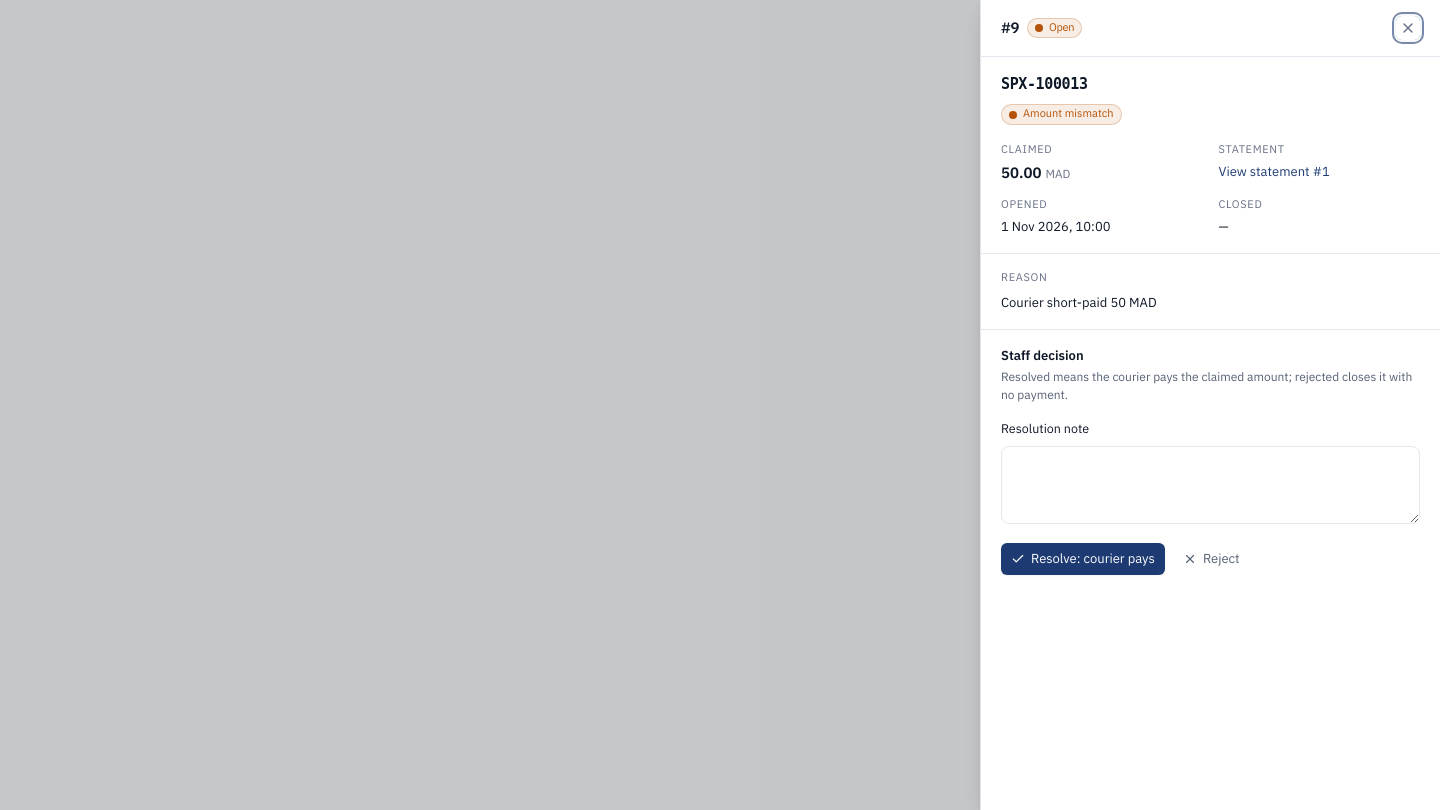
Test case: DisputeDrawer › lets staff resolve with a note
Type "Paid" into the text box labelled "Resolution note" at x=1210, y=485, box [1001,446,1420,524]
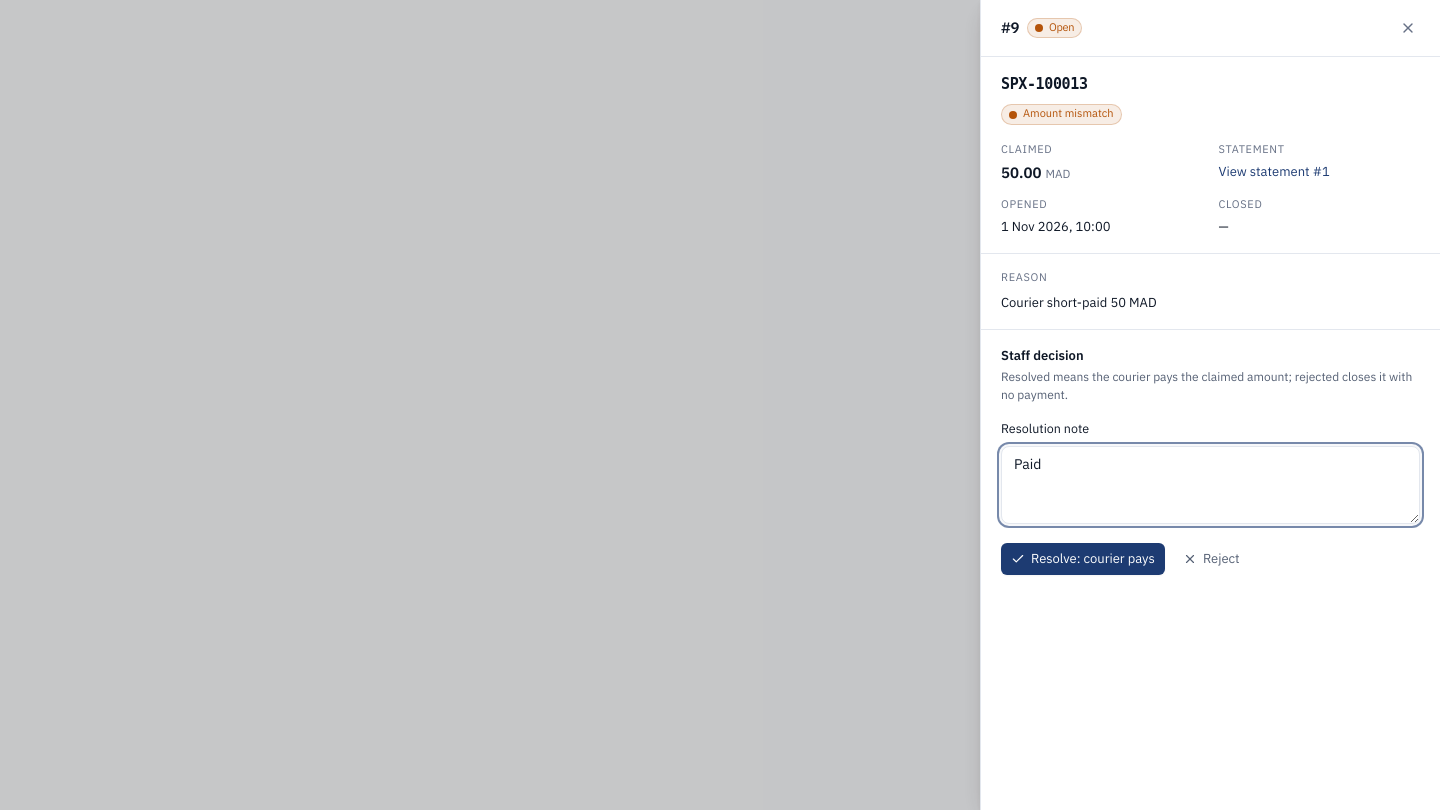
Click the button with test id "resolve-dispute" at x=1083, y=559, box [1001,543,1165,575]
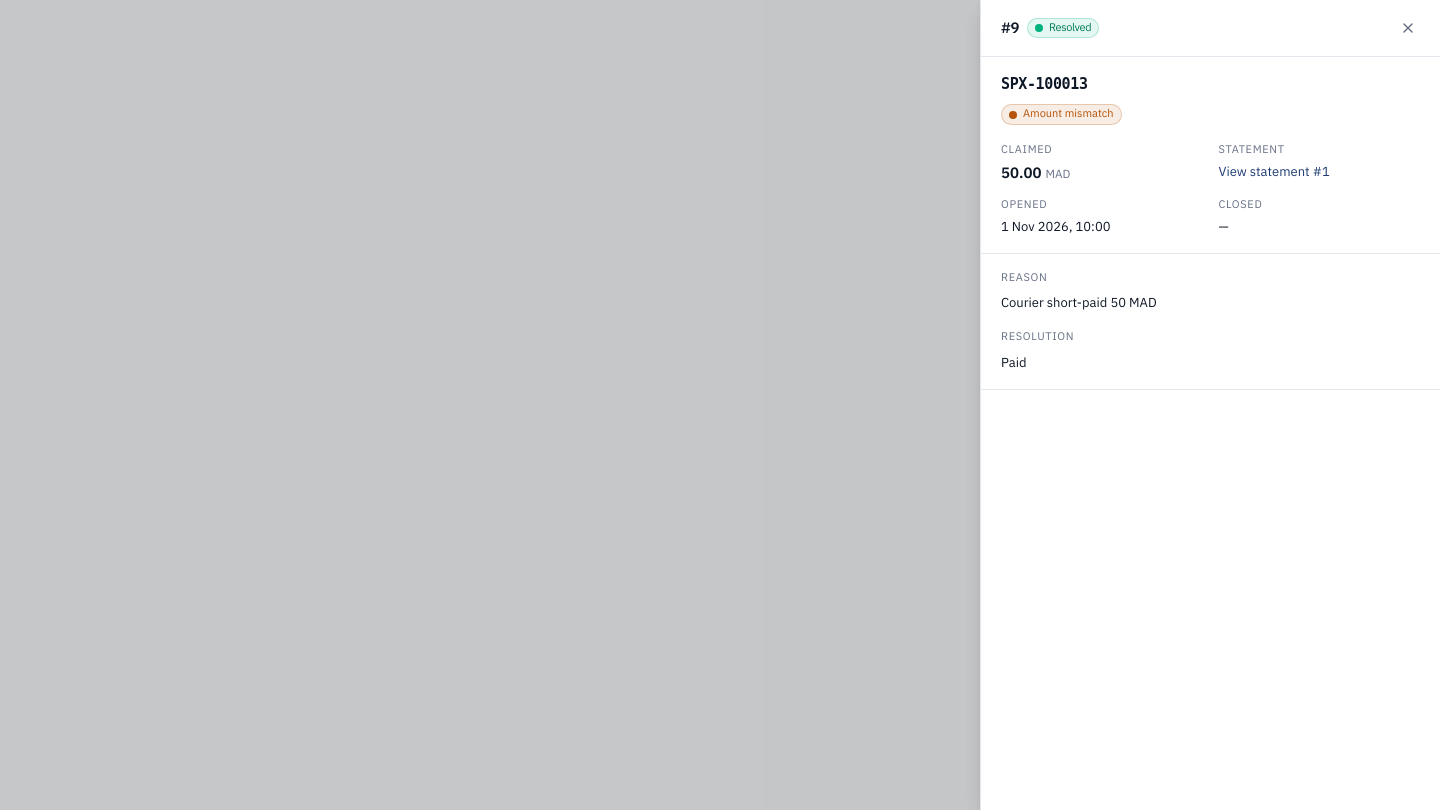
expect the element with test id "resolve-panel" is gone: met
